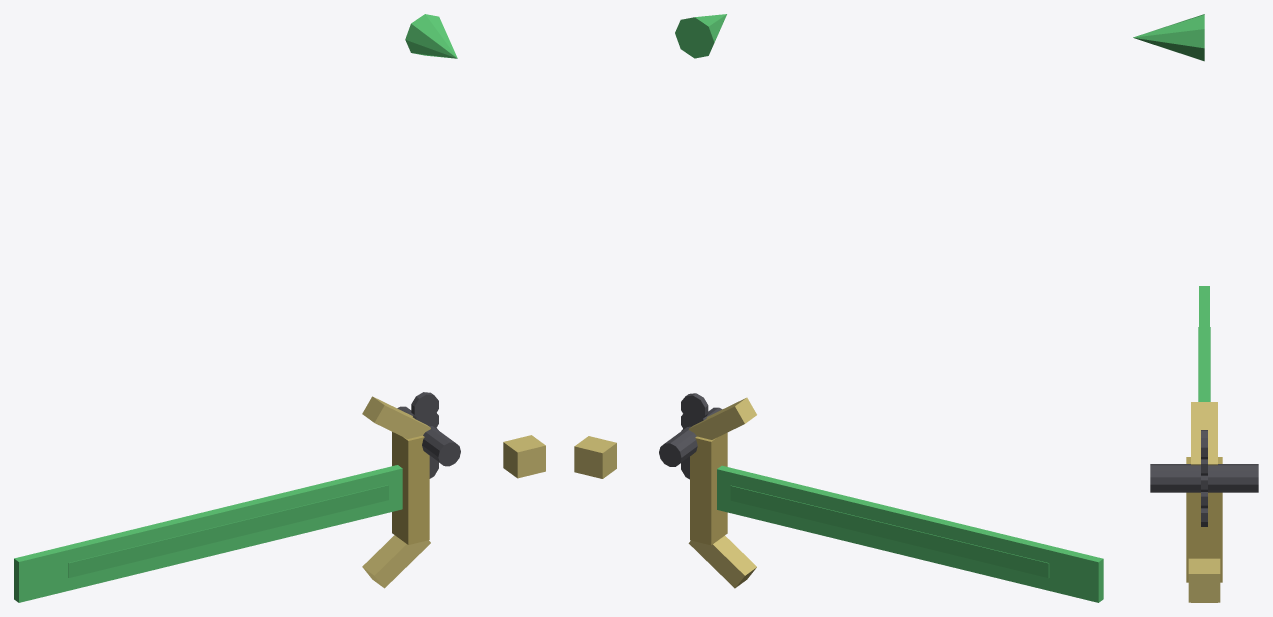
The model's file is zehir_kilic.glb.
The picture shows the model from 3 angles, left to right: view 1: azimuth 30°, elevation 25°; view 2: azimuth 150°, elevation 25°; view 3: azimuth 270°, elevation 25°; orthographic projection. The views are drawn at different scales.
Visible parts, largest first — view 1: geometry_0; view 2: geometry_0; view 3: geometry_0.
Part boxes in pixels (x1,y1,x2,y2): geometry_0: (14,14,545,602); geometry_0: (574,14,1103,602); geometry_0: (1133,14,1258,602).
Size of the model in its own units: 0.735 by 0.7512 by 0.14.
